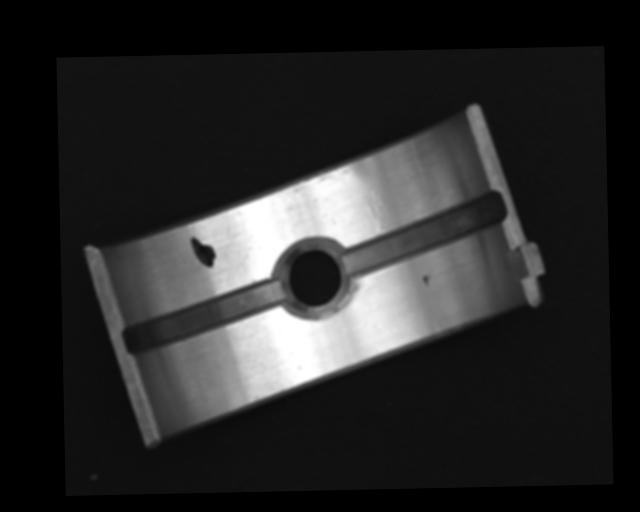blot: (189, 236, 216, 268)
bruise: (421, 274, 431, 287)
gap: (342, 191, 504, 277), (122, 283, 283, 355)
hole: (283, 240, 349, 320)
nick: (362, 187, 383, 232)
